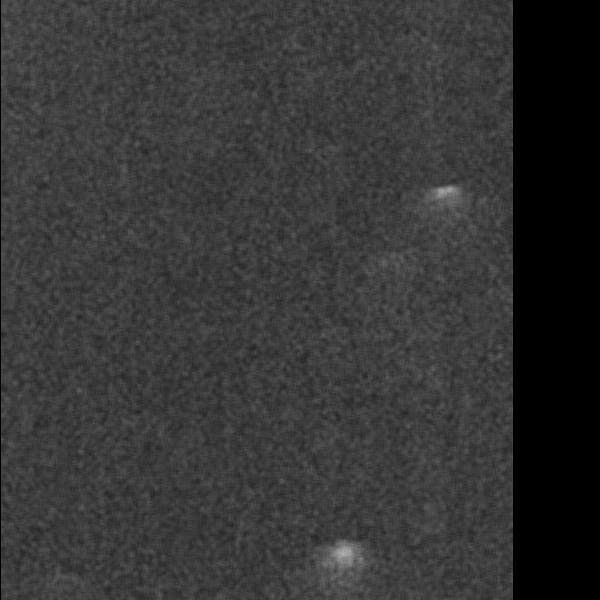spark: (422, 104, 457, 191), (391, 134, 432, 203), (53, 236, 85, 293)
